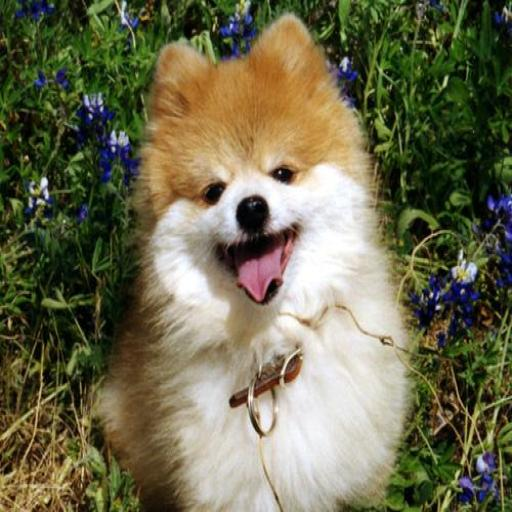dog_face: (156, 36, 328, 302)
